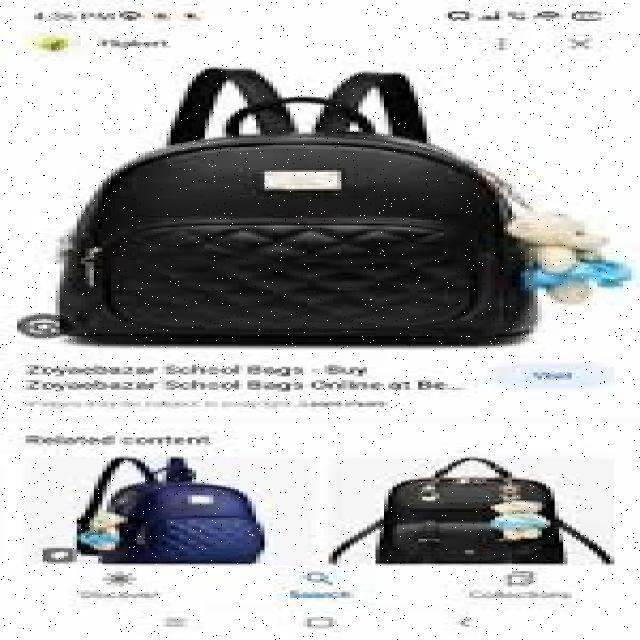backpack: (17, 67, 542, 344)
